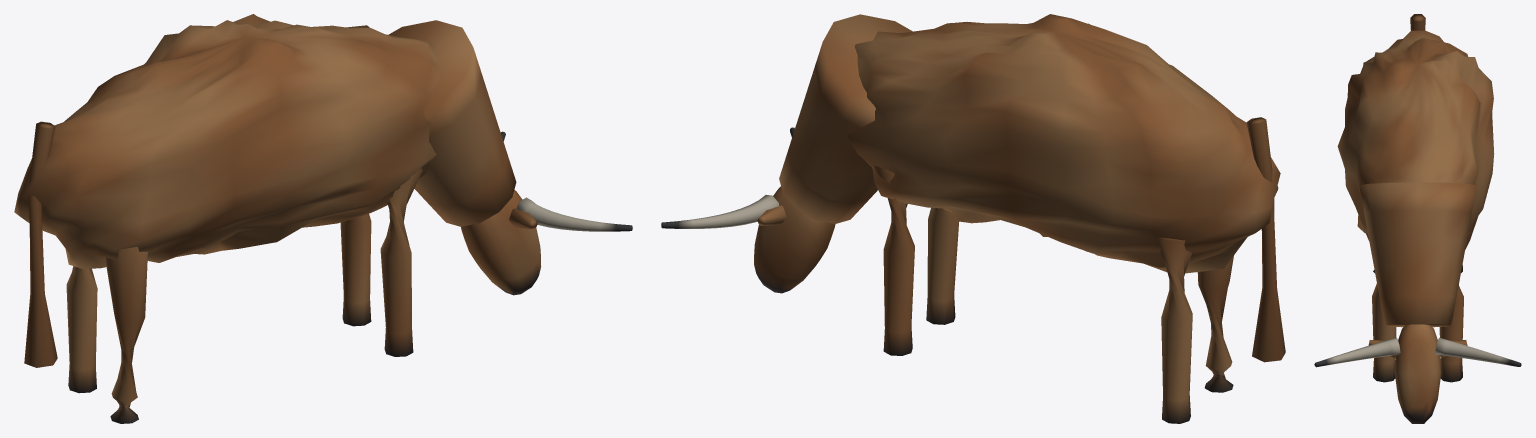
The model's file is SM_Animal_highland_0.glb.
3 renders of one model, left to right at view 1: azimuth 30°, elevation 25°; view 2: azimuth 150°, elevation 25°; view 3: azimuth 270°, elevation 25°, orthographic. The views are drawn at different scales.
Visible parts, largest first — view 1: SM_Animal_highland_0; view 2: SM_Animal_highland_0; view 3: SM_Animal_highland_0.
Boxes of the visible parts, x1,y1,x2,y2 form: SM_Animal_highland_0: (14, 14, 632, 423); SM_Animal_highland_0: (661, 14, 1285, 423); SM_Animal_highland_0: (1314, 14, 1521, 423).
Size of the model in its own units: 2.55 by 1.5 by 1.06.
